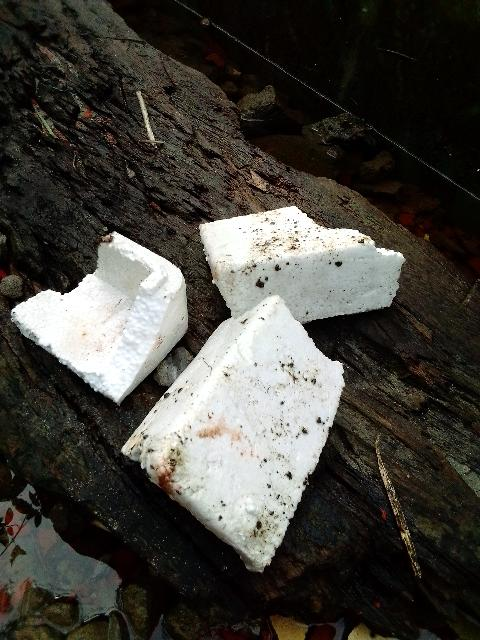cocksheet: (93, 282, 368, 576), (22, 234, 207, 417), (202, 211, 393, 308)
